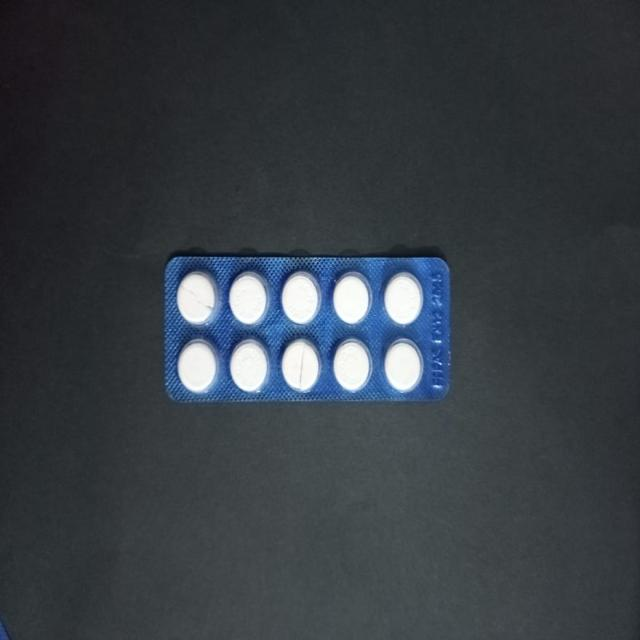defect: (175, 269, 221, 328), (278, 336, 323, 394)
